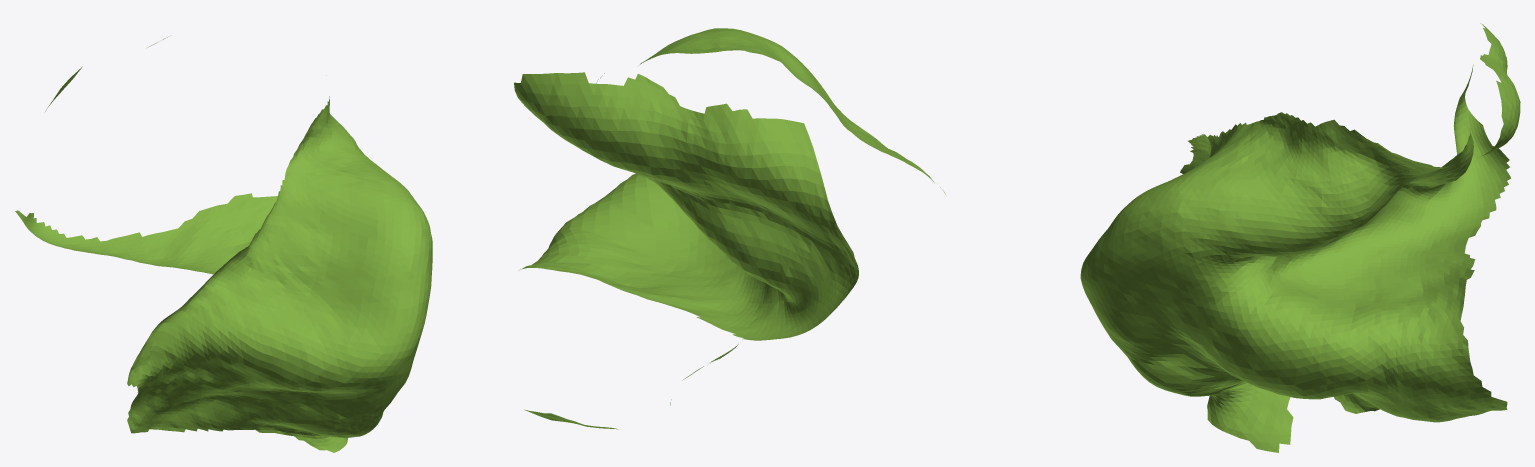
File: rh_supramarginal.glb
3 renders of one model, left to right at view 1: azimuth 30°, elevation 25°; view 2: azimuth 150°, elevation 25°; view 3: azimuth 270°, elevation 25°, orthographic. The views are drawn at different scales.
Parts seen in each view (by area): view 1: world; view 2: world; view 3: world.
Part boxes in pixels (left/top/right/bottom): world: left=15, top=36, right=432, bottom=452; world: left=514, top=28, right=945, bottom=429; world: left=1080, top=23, right=1520, bottom=452.
Bounding box in the file's own units: 34.46 × 33.27 × 36.8.
